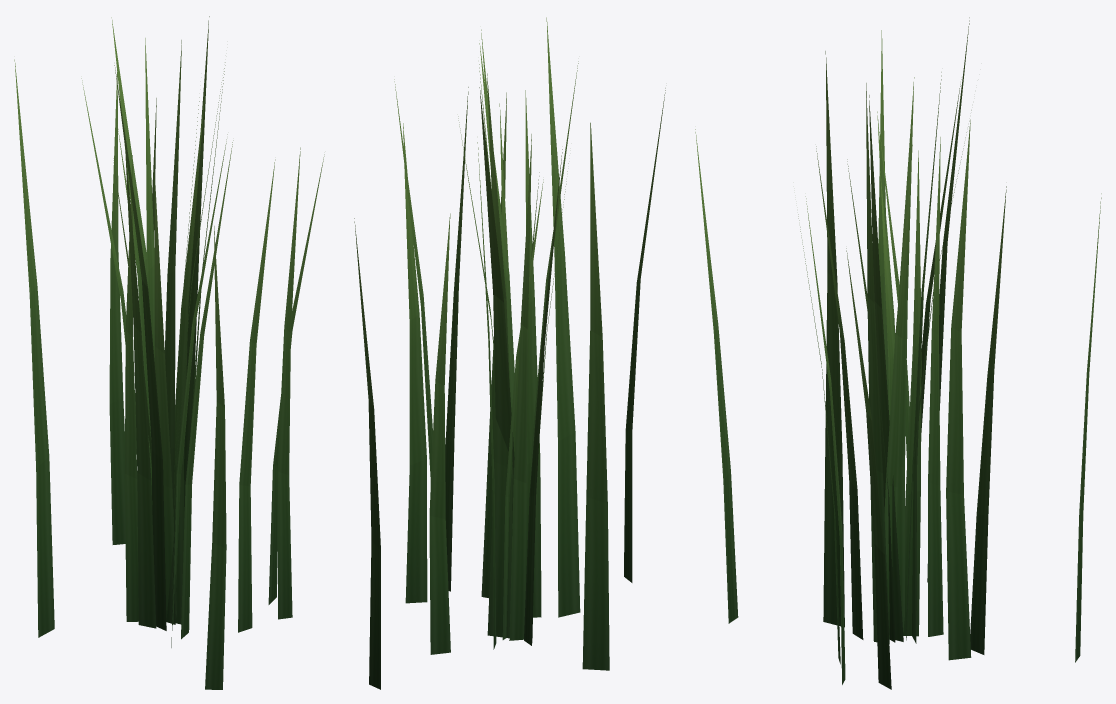
Rendered from forest_grass_002_c_LOD1.gltf.
3 views of the same model, side by side, from view 1: azimuth 30°, elevation 25°; view 2: azimuth 150°, elevation 25°; view 3: azimuth 270°, elevation 25° (orthographic).
Visible parts, largest first — view 1: forest_grass_002_c_LOD1; view 2: forest_grass_002_c_LOD1; view 3: forest_grass_002_c_LOD1.
Part boxes in pixels (x1=…): forest_grass_002_c_LOD1: x1=14, y1=16, x2=324, y2=689; forest_grass_002_c_LOD1: x1=354, y1=17, x2=665, y2=689; forest_grass_002_c_LOD1: x1=695, y1=17, x2=1101, y2=689.
Bounding box in the file's own units: 0.2982 × 0.6734 × 0.4224.
Materials: 1 (1 with a texture image).
